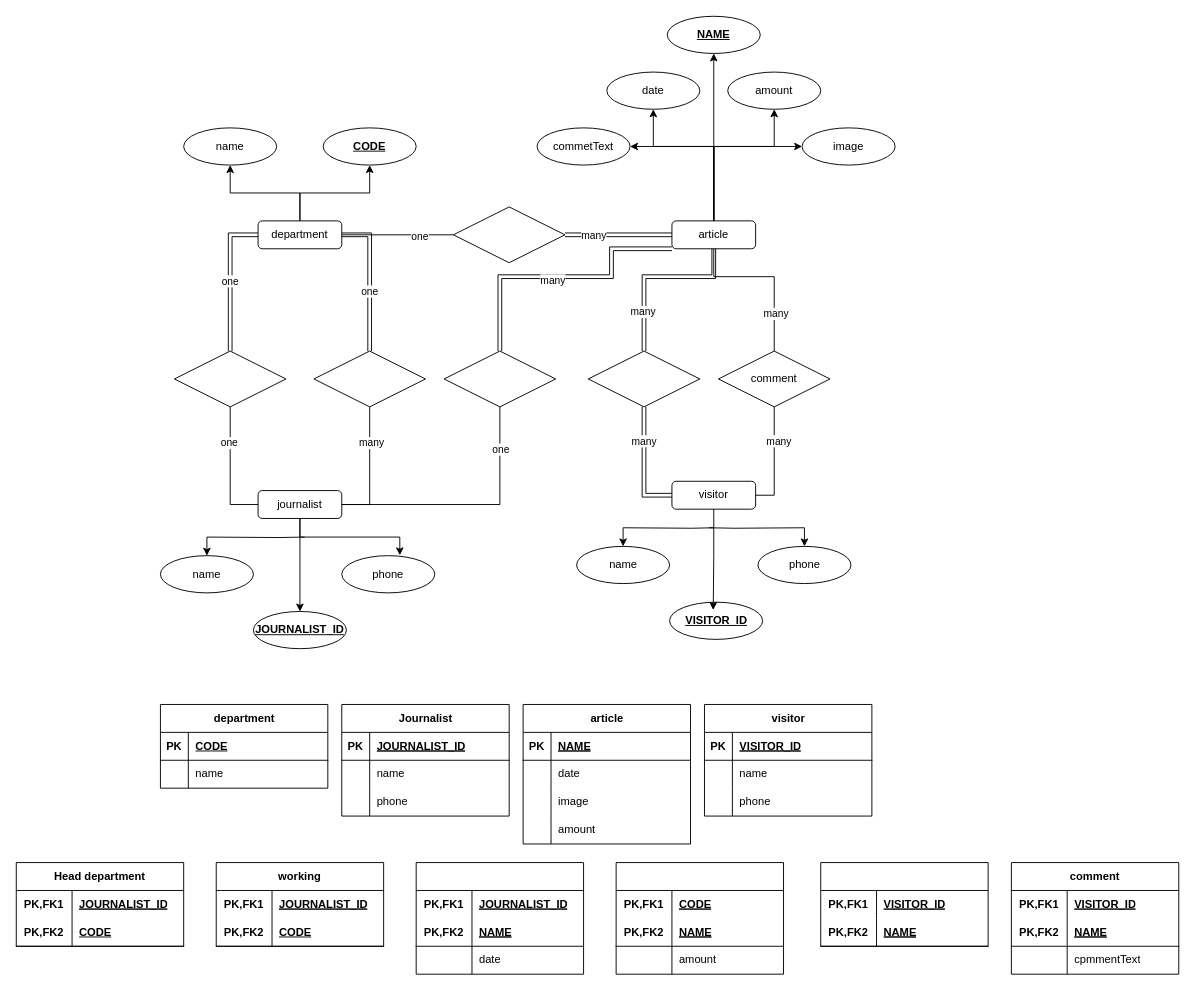
Some shapes in this 1195 by 990 pixel diagram are drawn without their labels. Each missing label, with the box of its shape:
Head: (173, 350, 286, 407)
include: (452, 206, 565, 263)
including article: (615, 862, 784, 974)
read: (587, 350, 700, 407)
reading: (820, 862, 988, 946)
Work: (313, 350, 425, 407)
write: (443, 350, 556, 407)
writing article: (415, 862, 584, 974)
